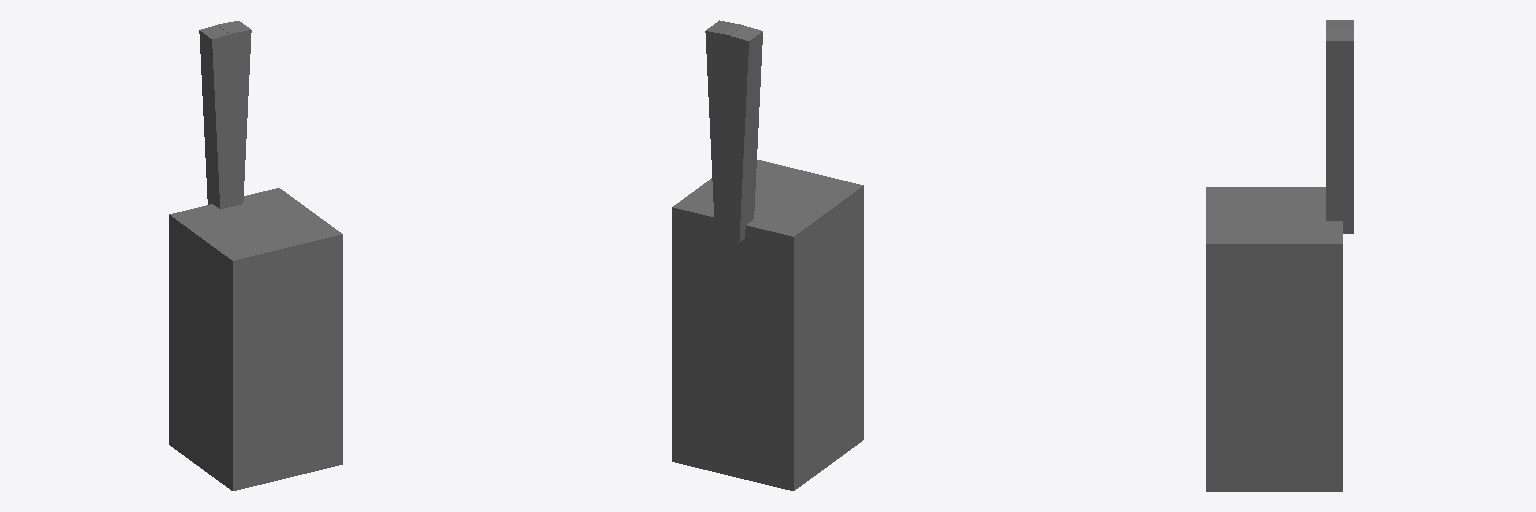
The robot description file, URDF, robot "lbr_iiwa_with_wsg50":
<?xml version="1.0" ?>
<robot name="lbr_iiwa_with_wsg50">
  <material name="Black">
    <color rgba="0.2 0.2 0.2 1.0"/>
  </material>
  <material name="Grey">
    <color rgba="0.5 0.5 0.5 1.0"/>
  </material>
  <material name="Orange">
    <color rgba="1.0 0.423529411765 0.0392156862745 1.0"/>
  </material>
  <material name="Blue">
    <color rgba="0.5 0.7 1.0 1.0"/>
  </material>

  <joint name="lbr_iiwa_with_wsg50__J0" type="revolute">
    <parent link="lbr_iiwa_with_wsg50__lbr_iiwa_link_0"/>
    <child link="lbr_iiwa_with_wsg50__lbr_iiwa_link_1"/>
    <origin rpy="0  0  0" xyz="0      0.0      0.1575"/>
    <axis xyz="0  0  1"/>
    <limit effort="300.0" lower="-2.96706" upper="2.96706" velocity="10.0"/>
  </joint>
  <joint name="lbr_iiwa_with_wsg50__J1" type="revolute">
    <parent link="lbr_iiwa_with_wsg50__lbr_iiwa_link_1"/>
    <child link="lbr_iiwa_with_wsg50__lbr_iiwa_link_2"/>
    <origin rpy="1.5708   0      -3.14159" xyz="0      0      0.2025"/>
    <axis xyz="0  0  1"/>
    <limit effort="300.0" lower="-2.0944" upper="2.0944" velocity="10.0"/>
  </joint>
  <joint name="lbr_iiwa_with_wsg50__J2" type="revolute">
    <parent link="lbr_iiwa_with_wsg50__lbr_iiwa_link_2"/>
    <child link="lbr_iiwa_with_wsg50__lbr_iiwa_link_3"/>
    <origin rpy="1.5708   0      -3.14159" xyz="0      0.2045  0"/>
    <axis xyz="0  0  1"/>
    <limit effort="300.0" lower="-2.96706" upper="2.96706" velocity="10.0"/>
  </joint>
  <joint name="lbr_iiwa_with_wsg50__J3" type="revolute">
    <parent link="lbr_iiwa_with_wsg50__lbr_iiwa_link_3"/>
    <child link="lbr_iiwa_with_wsg50__lbr_iiwa_link_4"/>
    <origin rpy="1.5708  0      0" xyz="0      0      0.2155"/>
    <axis xyz="0  0  1"/>
    <limit effort="300.0" lower="-2.0944" upper="2.0944" velocity="10.0"/>
  </joint>
  <joint name="lbr_iiwa_with_wsg50__J4" type="revolute">
    <parent link="lbr_iiwa_with_wsg50__lbr_iiwa_link_4"/>
    <child link="lbr_iiwa_with_wsg50__lbr_iiwa_link_5"/>
    <origin rpy="1.5708   0       3.14159" xyz="0      0.1845  0"/>
    <axis xyz="0  0  1"/>
    <limit effort="300.0" lower="-2.96706" upper="2.96706" velocity="10.0"/>
  </joint>
  <joint name="lbr_iiwa_with_wsg50__J5" type="revolute">
    <parent link="lbr_iiwa_with_wsg50__lbr_iiwa_link_5"/>
    <child link="lbr_iiwa_with_wsg50__lbr_iiwa_link_6"/>
    <origin rpy="1.5708  0      0" xyz="0      0      0.2155"/>
    <axis xyz="0  0  1"/>
    <limit effort="300.0" lower="-2.0944" upper="2.0944" velocity="10.0"/>
  </joint>
  <joint name="lbr_iiwa_with_wsg50__J6" type="revolute">
    <parent link="lbr_iiwa_with_wsg50__lbr_iiwa_link_6"/>
    <child link="lbr_iiwa_with_wsg50__lbr_iiwa_link_7"/>
    <origin rpy="1.5708   0      -3.14159" xyz="0     0.081  0"/>
    <axis xyz="0  0  1"/>
    <limit effort="300.0" lower="-3.05433" upper="3.05433" velocity="10.0"/>
  </joint>
  <joint name="lbr_iiwa_with_wsg50__gripper_to_arm" type="fixed">
    <parent link="lbr_iiwa_with_wsg50__lbr_iiwa_link_7"/>
    <child link="lbr_iiwa_with_wsg50__base_link"/>
    <origin rpy="0  0  0" xyz="0     0     0.044"/>
    <axis xyz="0  0  1"/>
    <limit effort="0" lower="0" upper="0" velocity="0"/>
  </joint>
  <joint name="lbr_iiwa_with_wsg50__base_left_finger_joint" type="revolute">
    <parent link="lbr_iiwa_with_wsg50__base_link"/>
    <child link="lbr_iiwa_with_wsg50__left_finger"/>
    <origin rpy="0   -0.05  0" xyz="0     0.024  0.045"/>
    <axis xyz="0  1  0"/>
    <limit effort="100.0" lower="-10.4" upper="10.01" velocity="1.0"/>
  </joint>
  <joint name="lbr_iiwa_with_wsg50__left_finger_base_joint" type="fixed">
    <parent link="lbr_iiwa_with_wsg50__left_finger"/>
    <child link="lbr_iiwa_with_wsg50__left_finger_base"/>
    <origin rpy="0   -0.25  0" xyz="-0.00099  0       0.08015"/>
    <axis xyz="0  0  0"/>
    <limit effort="0" lower="0" upper="0" velocity="0"/>
  </joint>
  <joint name="lbr_iiwa_with_wsg50__left_base_tip_joint" type="revolute">
    <parent link="lbr_iiwa_with_wsg50__left_finger_base"/>
    <child link="lbr_iiwa_with_wsg50__left_finger_tip"/>
    <origin rpy="0   0.5  0" xyz="0.0034   0       0.06175"/>
    <axis xyz="0  1  0"/>
    <limit effort="0.0" lower="-10.1" upper="10.3" velocity="1.0"/>
  </joint>
  <joint name="lbr_iiwa_with_wsg50__base_right_finger_joint" type="revolute">
    <parent link="lbr_iiwa_with_wsg50__base_link"/>
    <child link="lbr_iiwa_with_wsg50__right_finger"/>
    <origin rpy="0    0.05  0" xyz="0     0.024  0.045"/>
    <axis xyz="0  1  0"/>
    <limit effort="100.0" lower="-10.01" upper="10.4" velocity="1.0"/>
  </joint>
  <joint name="lbr_iiwa_with_wsg50__right_finger_base_joint" type="fixed">
    <parent link="lbr_iiwa_with_wsg50__right_finger"/>
    <child link="lbr_iiwa_with_wsg50__right_finger_base"/>
    <origin rpy="0    0.25  0" xyz="0.00099  0       0.08015"/>
    <axis xyz="0  0  0"/>
    <limit effort="0" lower="0" upper="0" velocity="0"/>
  </joint>
  <joint name="lbr_iiwa_with_wsg50__right_base_tip_joint" type="revolute">
    <parent link="lbr_iiwa_with_wsg50__right_finger_base"/>
    <child link="lbr_iiwa_with_wsg50__right_finger_tip"/>
    <origin rpy="0  -0.5  0" xyz="-0.0034   0       0.06175"/>
    <axis xyz="0  1  0"/>
    <limit effort="0.0" lower="-10.3" upper="10.1" velocity="1.0"/>
  </joint>
  <link name="lbr_iiwa_with_wsg50__lbr_iiwa_link_0">
    <inertial>
      <mass value="0"/>
      <origin rpy="0  0  0" xyz="0.0   0    0.07"/>
      <inertia ixx="0.05" ixy="0" ixz="0" iyy="0.06" iyz="0" izz="0.03"/>
    </inertial>
    <collision name="lbr_iiwa_with_wsg50__lbr_iiwa_link_0_collision">
      <origin rpy="0  0  0" xyz="0  0  0"/>
      <geometry>
        <mesh filename="meshes/link_0.stl" scale="1 1 1"/>
      </geometry>
    </collision>
    <visual name="lbr_iiwa_with_wsg50__lbr_iiwa_link_0_visual">
      <origin rpy="0  0  0" xyz="0  0  0"/>
      <geometry>
        <mesh filename="meshes/link_0.stl" scale="1 1 1"/>
      </geometry>
      <material name="Black" />
    </visual>
  </link>
  <link name="lbr_iiwa_with_wsg50__lbr_iiwa_link_1">
    <inertial>
      <mass value="4"/>
      <origin rpy="0  0  0" xyz="0   -0.03  0.12"/>
      <inertia ixx="0.1" ixy="0" ixz="0" iyy="0.09" iyz="0" izz="0.02"/>
    </inertial>
    <collision name="lbr_iiwa_with_wsg50__lbr_iiwa_link_1_collision">
      <origin rpy="0  0  0" xyz="0  0  0"/>
      <geometry>
        <mesh filename="meshes/link_1.stl" scale="1 1 1"/>
      </geometry>
    </collision>
    <visual name="lbr_iiwa_with_wsg50__lbr_iiwa_link_1_visual">
      <origin rpy="0  0  0" xyz="0  0  0"/>
      <geometry>
        <mesh filename="meshes/link_1.stl" scale="1 1 1"/>
      </geometry>
      <material name="Blue" />
    </visual>
  </link>
  <link name="lbr_iiwa_with_wsg50__lbr_iiwa_link_2">
    <inertial>
      <mass value="4"/>
      <origin rpy="0  0  0" xyz="0.00029  0.059    0.042"/>
      <inertia ixx="0.05" ixy="0" ixz="0" iyy="0.018" iyz="0" izz="0.044"/>
    </inertial>
    <collision name="lbr_iiwa_with_wsg50__lbr_iiwa_link_2_collision">
      <origin rpy="0  0  0" xyz="0  0  0"/>
      <geometry>
        <mesh filename="meshes/link_2.stl" scale="1 1 1"/>
      </geometry>
    </collision>
    <visual name="lbr_iiwa_with_wsg50__lbr_iiwa_link_2_visual">
      <origin rpy="0  0  0" xyz="0  0  0"/>
      <geometry>
        <mesh filename="meshes/link_2.stl" scale="1 1 1"/>
      </geometry>
      <material name="Blue"/>
    </visual>
  </link>
  <link name="lbr_iiwa_with_wsg50__lbr_iiwa_link_3">
    <inertial>
      <mass value="3"/>
      <origin rpy="0  0  0" xyz="0    0.03  0.13"/>
      <inertia ixx="0.08" ixy="0" ixz="0" iyy="0.075" iyz="0" izz="0.01"/>
    </inertial>
    <collision name="lbr_iiwa_with_wsg50__lbr_iiwa_link_3_collision">
      <origin rpy="0  0  0" xyz="0  0  0"/>
      <geometry>
        <mesh filename="meshes/link_3.stl" scale="1 1 1"/>
      </geometry>
    </collision>
    <visual name="lbr_iiwa_with_wsg50__lbr_iiwa_link_3_visual">
      <origin rpy="0  0  0" xyz="0  0  0"/>
      <geometry>
        <mesh filename="meshes/link_3.stl" scale="1 1 1"/>
      </geometry>
      <material name="Blue"/>
    </visual>
  </link>
  <link name="lbr_iiwa_with_wsg50__lbr_iiwa_link_4">
    <inertial>
      <mass value="2.7"/>
      <origin rpy="0  0  0" xyz="0     0.067  0.034"/>
      <inertia ixx="0.03" ixy="0" ixz="0" iyy="0.01" iyz="0" izz="0.029"/>
    </inertial>
    <collision name="lbr_iiwa_with_wsg50__lbr_iiwa_link_4_collision">
      <origin rpy="0  0  0" xyz="0  0  0"/>
      <geometry>
        <mesh filename="meshes/link_4.stl" scale="1 1 1"/>
      </geometry>
    </collision>
    <visual name="lbr_iiwa_with_wsg50__lbr_iiwa_link_4_visual">
      <origin rpy="0  0  0" xyz="0  0  0"/>
      <geometry>
        <mesh filename="meshes/link_4.stl" scale="1 1 1"/>
      </geometry>
      <material name="Orange"/>
    </visual>
  </link>
  <link name="lbr_iiwa_with_wsg50__lbr_iiwa_link_5">
    <inertial>
      <mass value="1.7"/>
      <origin rpy="0  0  0" xyz="0.0001  0.021   0.076"/>
      <inertia ixx="0.02" ixy="0" ixz="0" iyy="0.018" iyz="0" izz="0.005"/>
    </inertial>
    <collision name="lbr_iiwa_with_wsg50__lbr_iiwa_link_5_collision">
      <origin rpy="0  0  0" xyz="0  0  0"/>
      <geometry>
        <mesh filename="meshes/link_5.stl" scale="1 1 1"/>
      </geometry>
    </collision>
    <visual name="lbr_iiwa_with_wsg50__lbr_iiwa_link_5_visual">
      <origin rpy="0  0  0" xyz="0  0  0"/>
      <geometry>
        <mesh filename="meshes/link_5.stl" scale="1 1 1"/>
      </geometry>
      <material name="Blue" />
    </visual>
  </link>
  <link name="lbr_iiwa_with_wsg50__lbr_iiwa_link_6">
    <inertial>
      <mass value="1.8"/>
      <origin rpy="0  0  0" xyz="0       0.00059  0.0004"/>
      <inertia ixx="0.005" ixy="0" ixz="0" iyy="0.0036" iyz="0" izz="0.0047"/>
    </inertial>
    <collision name="lbr_iiwa_with_wsg50__lbr_iiwa_link_6_collision">
      <origin rpy="0  0  0" xyz="0  0  0"/>
      <geometry>
        <mesh filename="meshes/link_6.stl" scale="1 1 1"/>
      </geometry>
    </collision>
    <visual name="lbr_iiwa_with_wsg50__lbr_iiwa_link_6_visual">
      <origin rpy="0  0  0" xyz="0  0  0"/>
      <geometry>
        <mesh filename="meshes/link_6.stl" scale="1 1 1"/>
      </geometry>
      <material name="Orange"/>
    </visual>
  </link>
  <link name="lbr_iiwa_with_wsg50__lbr_iiwa_link_7">
    <inertial>
      <mass value="1.3"/>
      <origin rpy="0  0  0" xyz="0    0    0.02"/>
      <inertia ixx="0.001" ixy="0" ixz="0" iyy="0.001" iyz="0" izz="0.001"/>
    </inertial>
    <collision name="lbr_iiwa_with_wsg50__lbr_iiwa_link_7_collision">
      <origin rpy="0  0  0" xyz="0  0  0"/>
      <geometry>
        <mesh filename="meshes/link_7.stl" scale="1 1 1"/>
      </geometry>
    </collision>
    <visual name="lbr_iiwa_with_wsg50__lbr_iiwa_link_7_visual">
      <origin rpy="0  0  0" xyz="0  0  0"/>
      <geometry>
        <mesh filename="meshes/link_7.stl" scale="1 1 1"/>
      </geometry>
      <material name="Grey" />
    </visual>
  </link>
  <link name="lbr_iiwa_with_wsg50__base_link">
    <inertial>
      <mass value="0.2"/>
      <origin rpy="0  0  0" xyz="0  0  0"/>
      <inertia ixx="1" ixy="0" ixz="0" iyy="1" iyz="0" izz="1"/>
    </inertial>
    <collision name="lbr_iiwa_with_wsg50__base_link_collision">
      <origin rpy="0  0  0" xyz="0  0  0"/>
      <geometry>
        <box size="0.05 0.05 0.1"/>
      </geometry>
    </collision>
    <visual name="lbr_iiwa_with_wsg50__base_link_visual">
      <origin rpy="0  0  0" xyz="0  0  0"/>
      <geometry>
        <box size="0.05 0.05 0.1"/>
      </geometry>
      <material name="Grey" />
    </visual>
  </link>
  <link name="lbr_iiwa_with_wsg50__left_finger">
    <inertial>
      <mass value="0.2"/>
      <origin rpy="0  0  0" xyz="0    0    0.04"/>
      <inertia ixx="0.1" ixy="0" ixz="0" iyy="0.1" iyz="0" izz="0.1"/>
    </inertial>
    <collision name="lbr_iiwa_with_wsg50__left_finger_collision">
      <origin rpy="0  0  0" xyz="0    0    0.04"/>
      <geometry>
        <box size="0.01 0.01 0.08"/>
      </geometry>
    </collision>
    <visual name="lbr_iiwa_with_wsg50__left_finger_visual">
      <origin rpy="0  0  0" xyz="0    0    0.04"/>
      <geometry>
        <box size="0.01 0.01 0.08"/>
      </geometry>
      <material name="Grey" />
    </visual>
  </link>
  <link name="lbr_iiwa_with_wsg50__left_finger_base">
    <inertial>
      <mass value="0.2"/>
      <origin rpy="0  0  0" xyz="-0.003  0     0.04"/>
      <inertia ixx="0.1" ixy="0" ixz="0" iyy="0.1" iyz="0" izz="0.1"/>
    </inertial>
    <collision name="lbr_iiwa_with_wsg50__left_finger_base_collision">
      <origin rpy="0  0  0" xyz="0  0  0"/>
      <geometry>
        <mesh filename="meshes/finger_base_left.stl" scale="1 1 1"/>
      </geometry>
    </collision>
    <visual name="lbr_iiwa_with_wsg50__left_finger_base_visual">
      <origin rpy="0  0  0" xyz="0  0  0"/>
      <geometry>
        <mesh filename="meshes/finger_base_left.stl" scale="1 1 1"/>
      </geometry>
      <material name="Grey" />
    </visual>
  </link>
  <link name="lbr_iiwa_with_wsg50__left_finger_tip">
    <inertial>
      <mass value="0.2"/>
      <origin rpy="0  0  0" xyz="-0.005  0     0.026"/>
      <inertia ixx="0.1" ixy="0" ixz="0" iyy="0.1" iyz="0" izz="0.1"/>
    </inertial>
    <collision name="lbr_iiwa_with_wsg50__left_finger_tip_collision">
      <origin rpy="0  0  0" xyz="0  0  0"/>
      <geometry>
        <mesh filename="meshes/finger_tip_left.stl" scale="1 1 1"/>
      </geometry>
    </collision>
    <visual name="lbr_iiwa_with_wsg50__left_finger_tip_visual">
      <origin rpy="0  0  0" xyz="0  0  0"/>
      <geometry>
        <mesh filename="meshes/finger_tip_left.stl" scale="1 1 1"/>
      </geometry>
      <material name="Grey" />
    </visual>
  </link>
  <link name="lbr_iiwa_with_wsg50__right_finger">
    <inertial>
      <mass value="0.2"/>
      <origin rpy="0  0  0" xyz="0    0    0.04"/>
      <inertia ixx="0.1" ixy="0" ixz="0" iyy="0.1" iyz="0" izz="0.1"/>
    </inertial>
    <collision name="lbr_iiwa_with_wsg50__right_finger_collision">
      <origin rpy="0  0  0" xyz="0    0    0.04"/>
      <geometry>
        <box size="0.01 0.01 0.08"/>
      </geometry>
    </collision>
    <visual name="lbr_iiwa_with_wsg50__right_finger_visual">
      <origin rpy="0  0  0" xyz="0    0    0.04"/>
      <geometry>
        <box size="0.01 0.01 0.08"/>
      </geometry>
      <material name="Grey" />
    </visual>
  </link>
  <link name="lbr_iiwa_with_wsg50__right_finger_base">
    <inertial>
      <mass value="0.2"/>
      <origin rpy="0  0  0" xyz="0.003  0     0.04"/>
      <inertia ixx="0.1" ixy="0" ixz="0" iyy="0.1" iyz="0" izz="0.1"/>
    </inertial>
    <collision name="lbr_iiwa_with_wsg50__right_finger_base_collision">
      <origin rpy="0  0  0" xyz="0  0  0"/>
      <geometry>
        <mesh filename="meshes/finger_base_right.stl" scale="1 1 1"/>
      </geometry>
    </collision>
    <visual name="lbr_iiwa_with_wsg50__right_finger_base_visual">
      <origin rpy="0  0  0" xyz="0  0  0"/>
      <geometry>
        <mesh filename="meshes/finger_base_right.stl" scale="1 1 1"/>
      </geometry>
      <material name="Grey" />
    </visual>
  </link>
  <link name="lbr_iiwa_with_wsg50__right_finger_tip">
    <inertial>
      <mass value="0.2"/>
      <origin rpy="0  0  0" xyz="0.005  0     0.026"/>
      <inertia ixx="0.1" ixy="0" ixz="0" iyy="0.1" iyz="0" izz="0.1"/>
    </inertial>
    <collision name="lbr_iiwa_with_wsg50__right_finger_tip_collision">
      <origin rpy="0  0  0" xyz="0  0  0"/>
      <geometry>
        <mesh filename="meshes/finger_tip_right.stl" scale="1 1 1"/>
      </geometry>
    </collision>
    <visual name="lbr_iiwa_with_wsg50__right_finger_visual">
      <origin rpy="0  0  0" xyz="0  0  0"/>
      <geometry>
        <mesh filename="meshes/finger_tip_right.stl" scale="1 1 1"/>
      </geometry>
      <material name="Grey" />
    </visual>
  </link>
</robot>

--- Facts derived from the render (not from the file) ---
3 views of the same robot in one strip: view 1: azimuth 30°, elevation 25°; view 2: azimuth 150°, elevation 25°; view 3: azimuth 270°, elevation 25° (orthographic).
Model lbr_iiwa_with_wsg50 with 15 links and 14 joints (11 revolute, 3 fixed), rooted at lbr_iiwa_with_wsg50__lbr_iiwa_link_0, posed every joint at zero.
Visible links, largest first — view 1: lbr_iiwa_with_wsg50__base_link, lbr_iiwa_with_wsg50__left_finger, lbr_iiwa_with_wsg50__right_finger; view 2: lbr_iiwa_with_wsg50__base_link, lbr_iiwa_with_wsg50__left_finger, lbr_iiwa_with_wsg50__right_finger; view 3: lbr_iiwa_with_wsg50__base_link, lbr_iiwa_with_wsg50__right_finger.
Boxes of the visible links, x1,y1,x2,y2 form: lbr_iiwa_with_wsg50__base_link: (169,188,342,490); lbr_iiwa_with_wsg50__left_finger: (199,24,241,208); lbr_iiwa_with_wsg50__right_finger: (218,21,251,208); lbr_iiwa_with_wsg50__base_link: (672,160,863,490); lbr_iiwa_with_wsg50__left_finger: (715,24,762,241); lbr_iiwa_with_wsg50__right_finger: (705,20,743,240); lbr_iiwa_with_wsg50__base_link: (1206,187,1342,491); lbr_iiwa_with_wsg50__right_finger: (1326,28,1353,233).
Size in the robot's own frame: 0.05 by 0.054 by 0.1752 metres.
Meshes: 12 distinct files referenced, 0 mesh visuals loaded (none loaded); not drawn: 12 (reference not matched to a file when rendering).